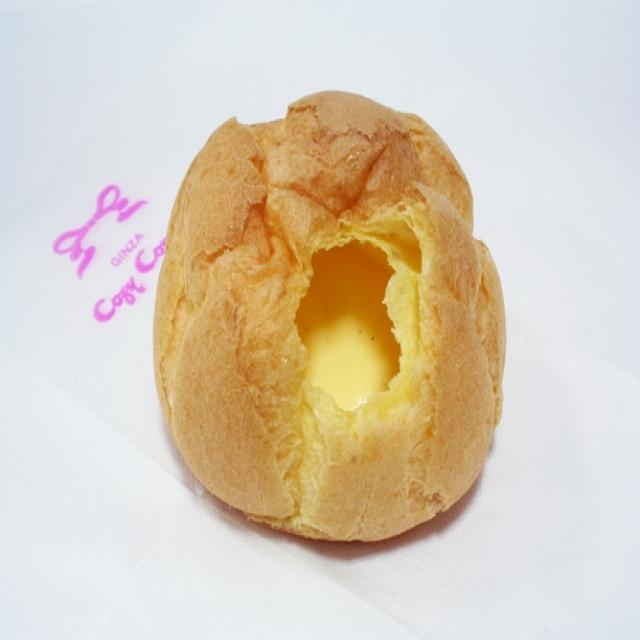炸货点心: (114, 70, 525, 576)
蛋糕甜品: (114, 70, 525, 576)
